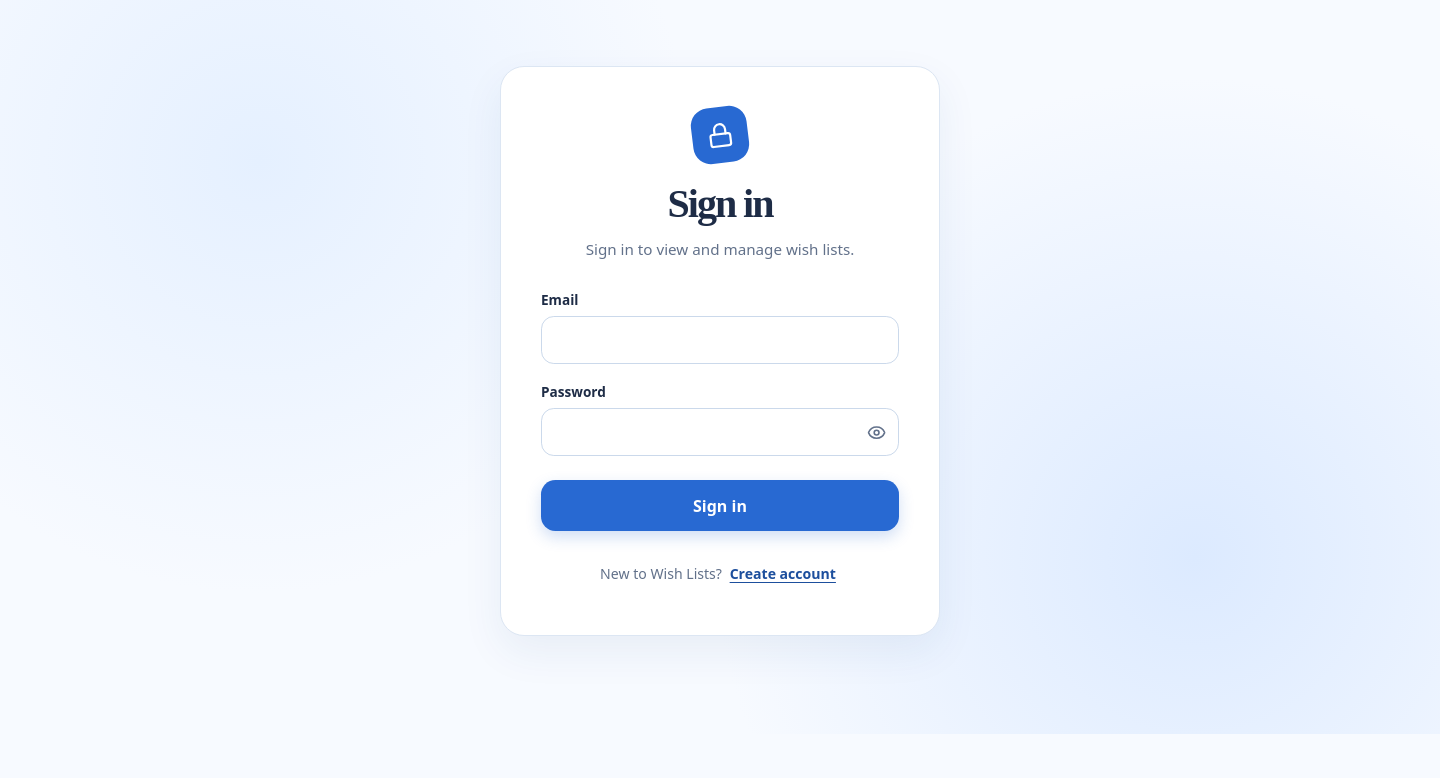
Test case: sign-up explains the confirmation email limit
The image size is (1440, 778).
Click the button "Create account" at {"x": 783, "y": 573}, box [726,551,840,595]
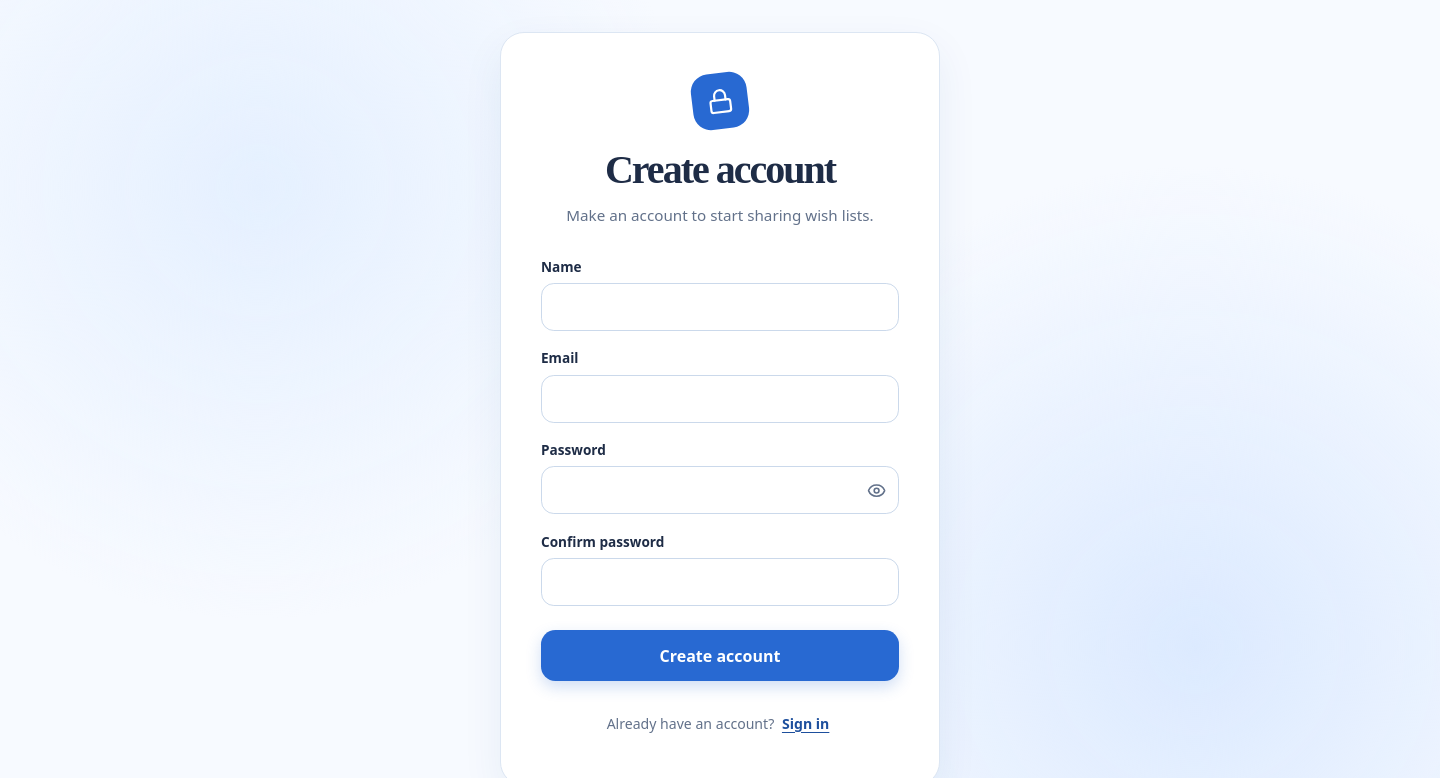
Type "Alex" into the field labelled "Name" at {"x": 720, "y": 307}, box [541,283,899,331]
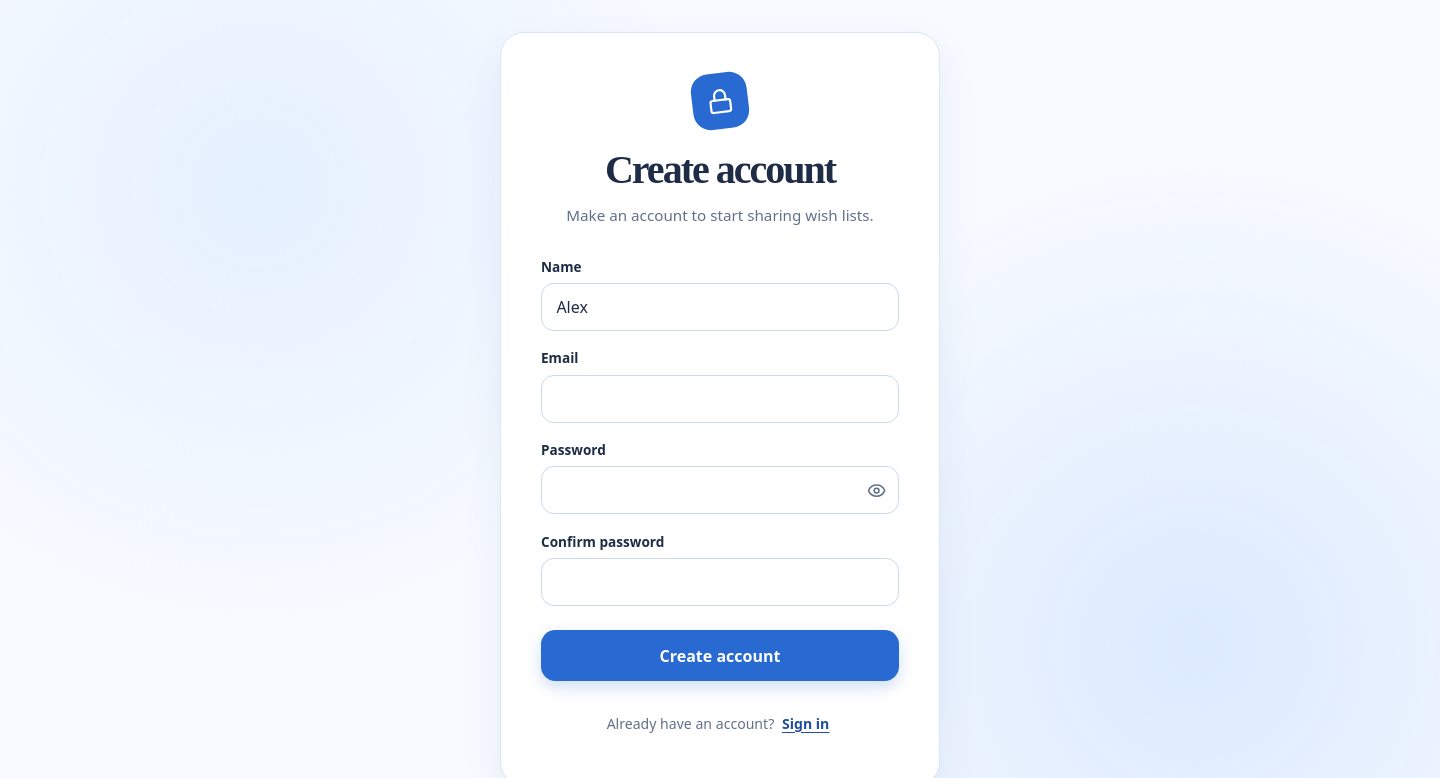
Type "alex@example.com" into the field labelled "Email" at {"x": 720, "y": 398}, box [541,374,899,422]
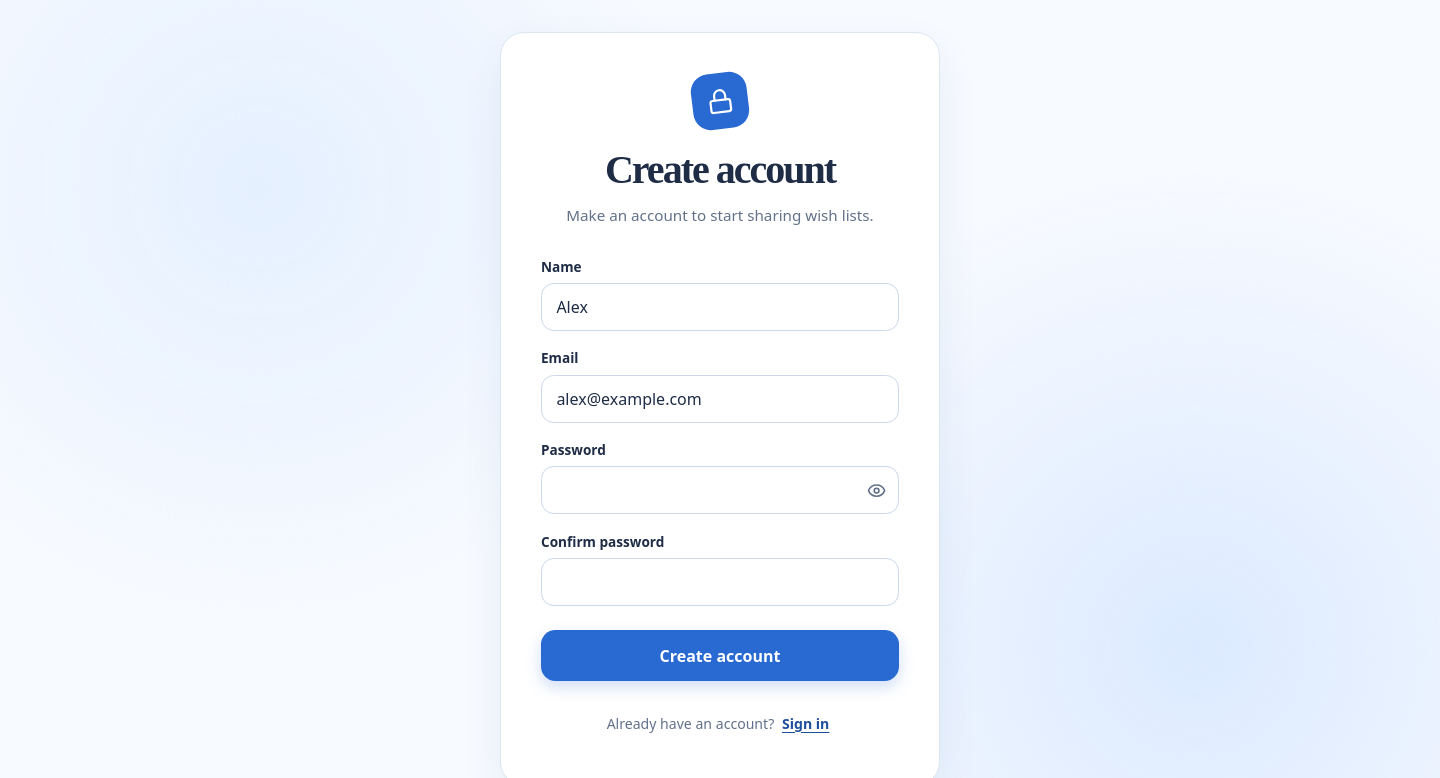
Type "Example-Test-Password-8" into the password field labelled "Password" at {"x": 720, "y": 490}, box [541,466,899,514]
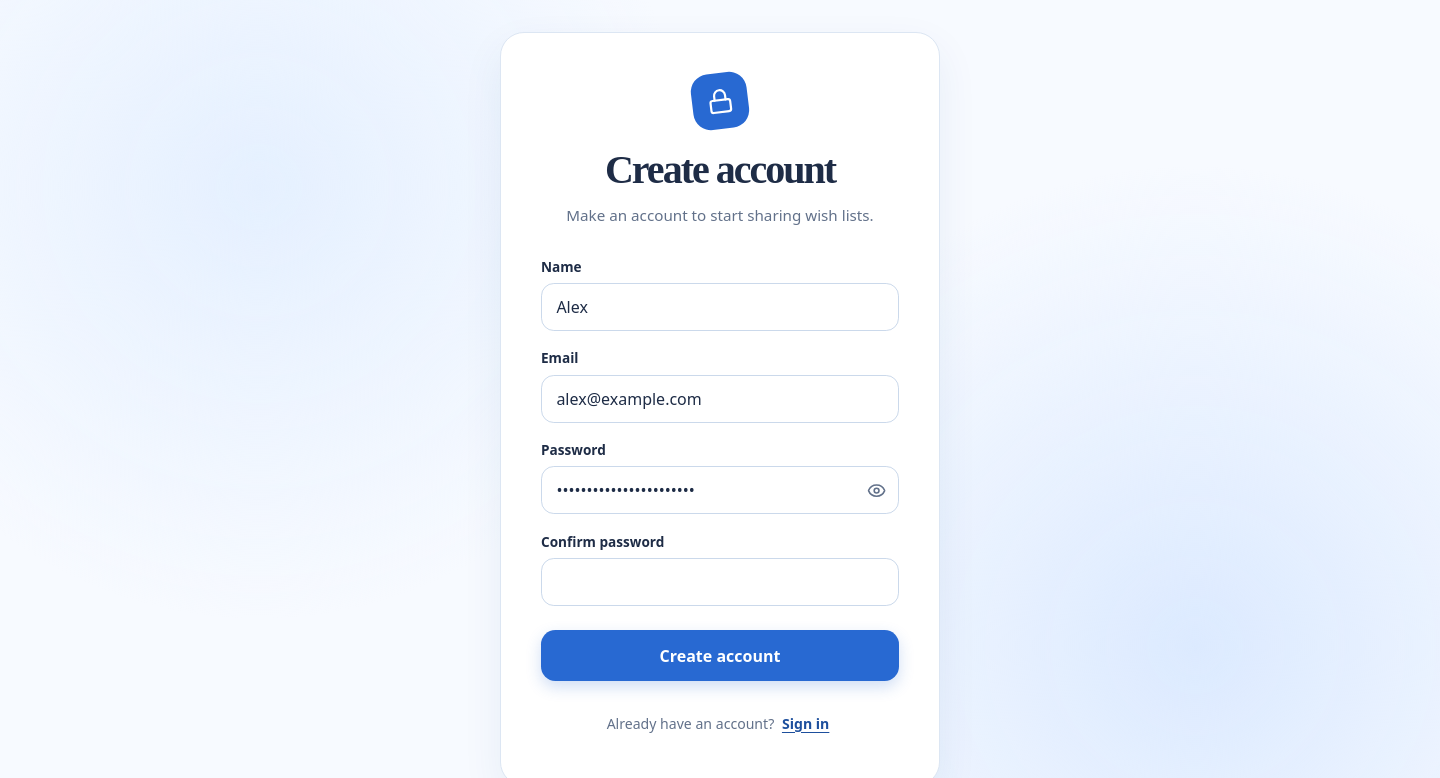
Type "Example-Test-Password-8" into the password field labelled "Confirm password" at {"x": 720, "y": 582}, box [541,558,899,606]
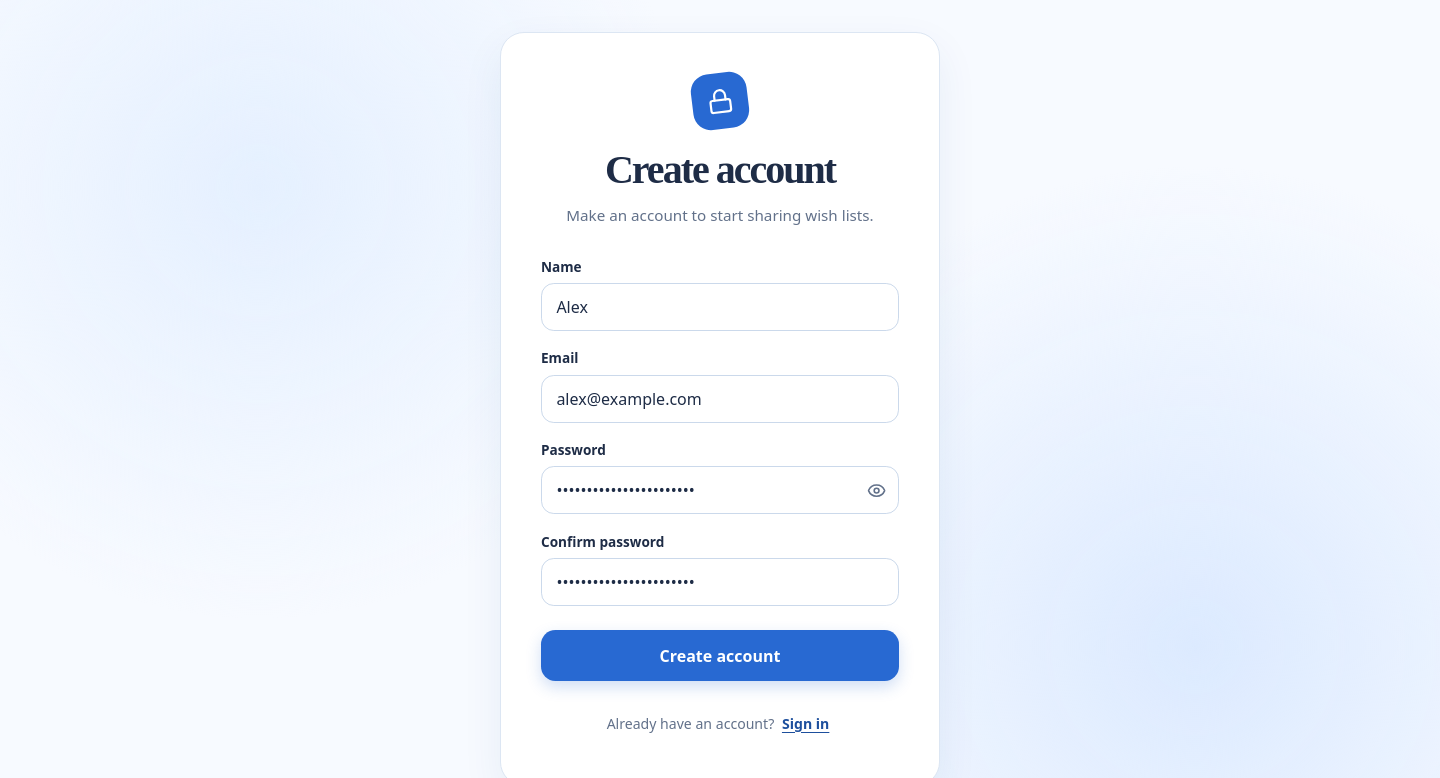
Click the button "Create account" at {"x": 720, "y": 656}, box [541,630,899,681]
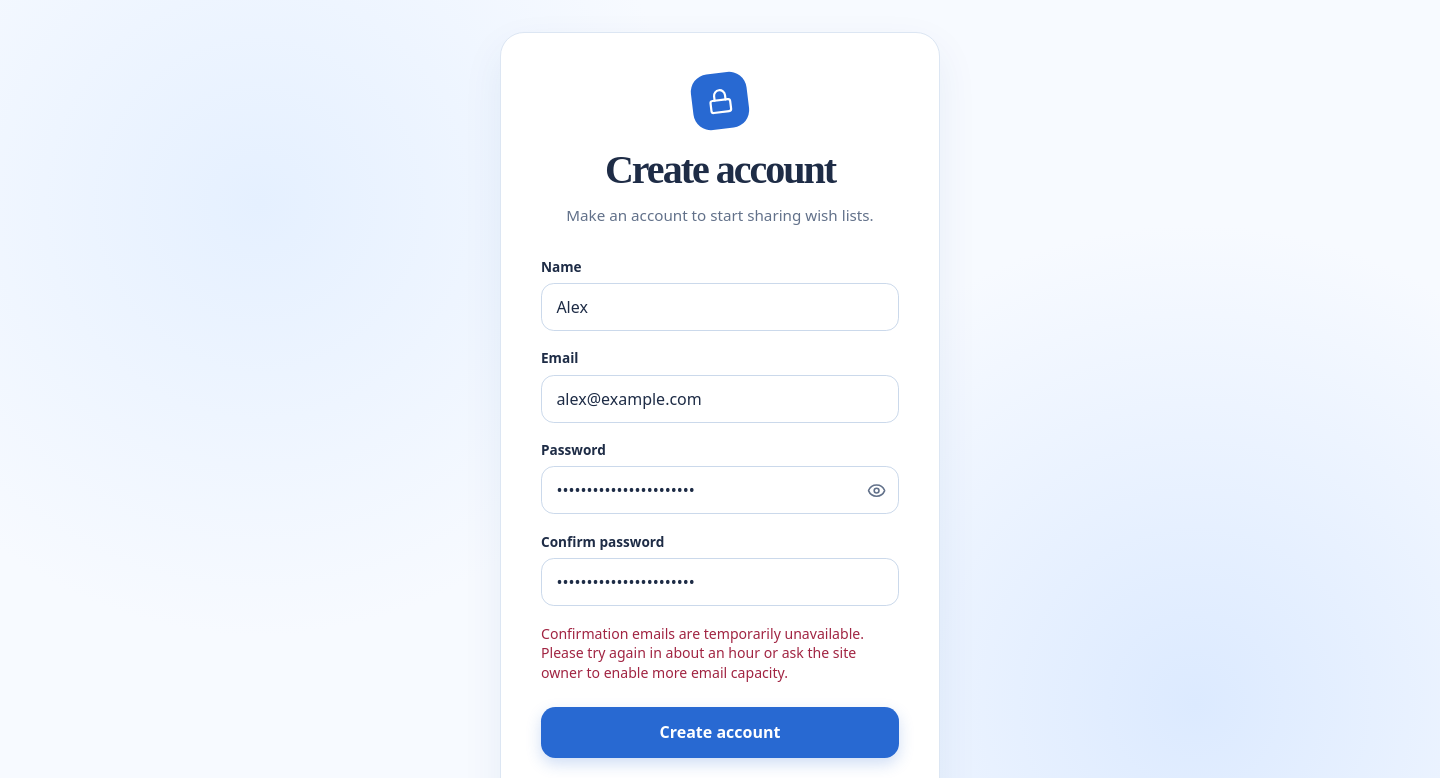
expect the message shows "Confirmation emails are temporarily unavailable": met, box [541,624,864,682]
